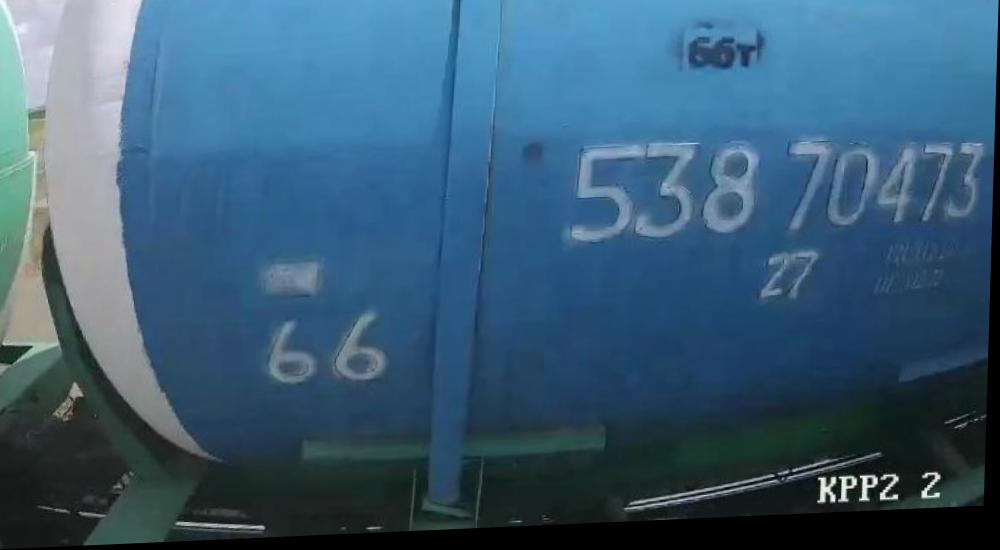Wagon-number: (565, 129, 990, 257)
